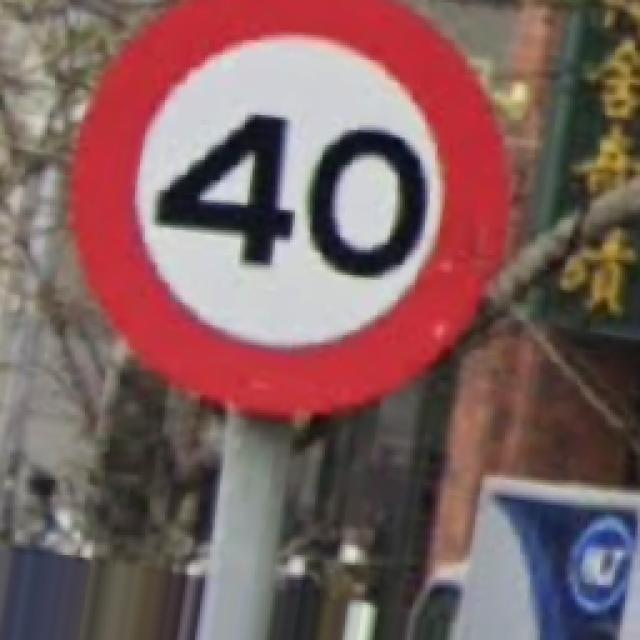Speed Limit -40-: (75, 0, 508, 412)
